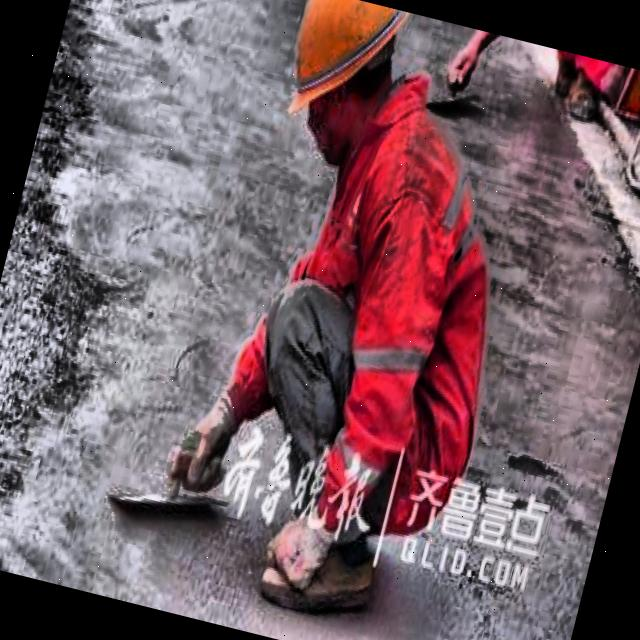helmet: (246, 0, 418, 187)
